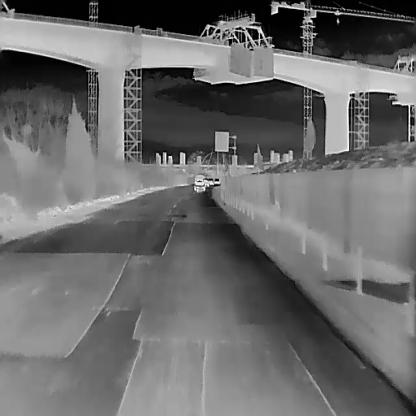car: (194, 175, 204, 191), (203, 178, 209, 186), (214, 178, 220, 183), (209, 178, 213, 184)
